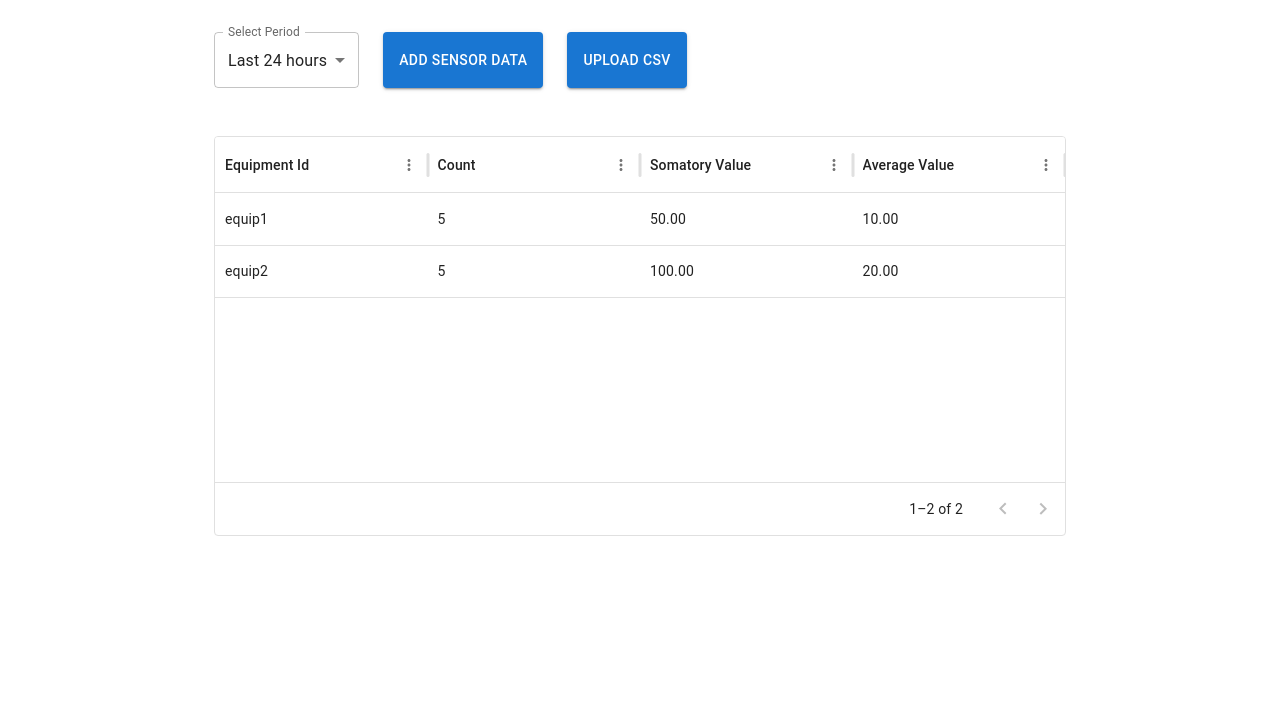
Dashboard › opens sensor input form when "Add Sensor Data" is clicked
Click the button "Add Sensor Data": x=463, y=60 [383,32,543,88]
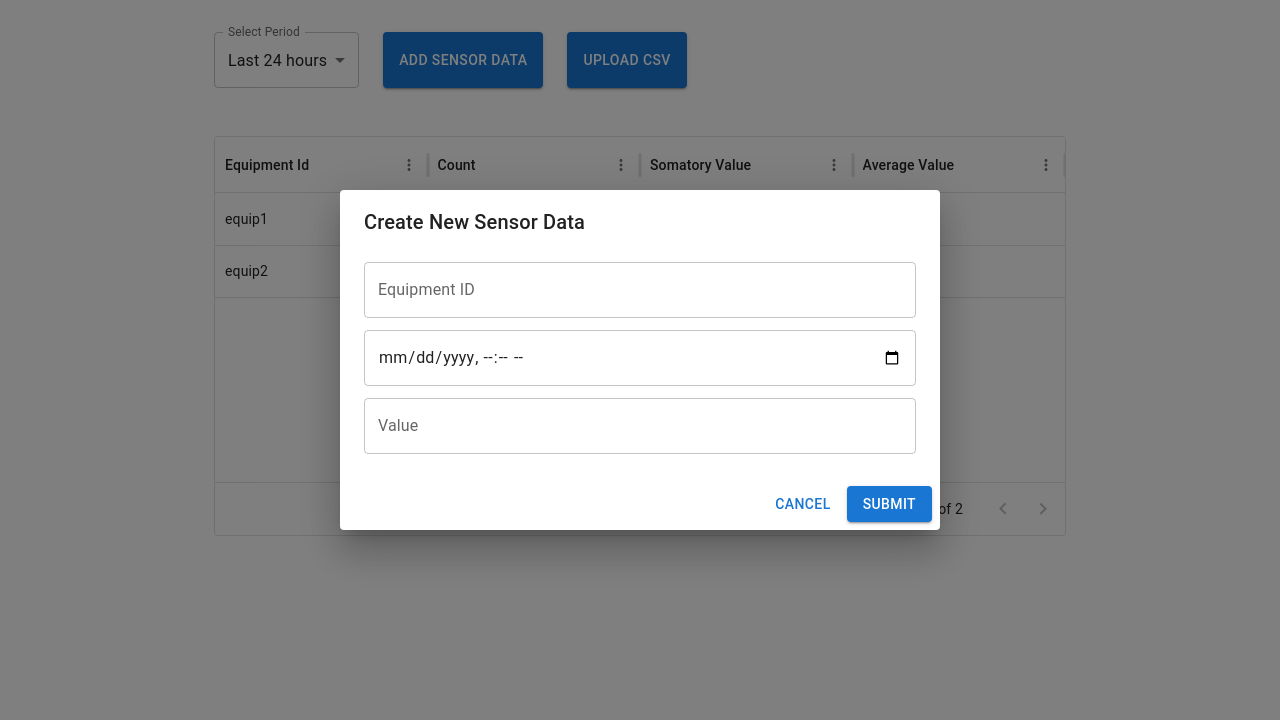
Expected: the heading "Create New Sensor Data" is shown, [364,210,585,234]
